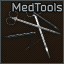Medical tools: (0, 0, 64, 64)
